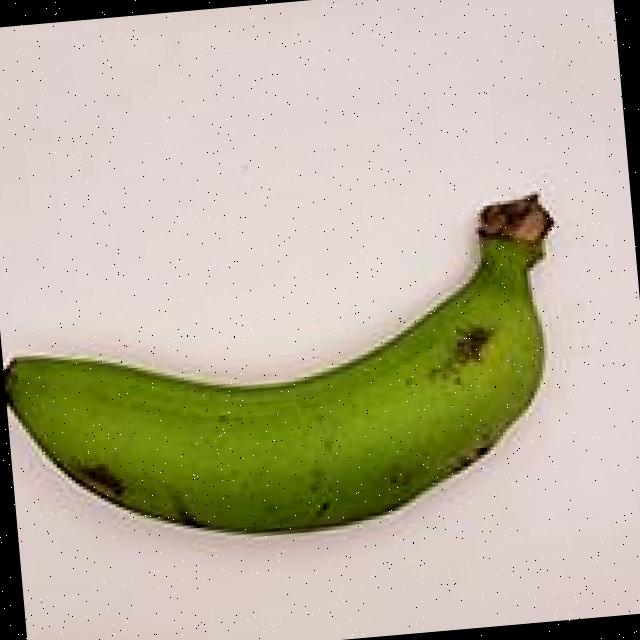Raw: (0, 157, 593, 570)
